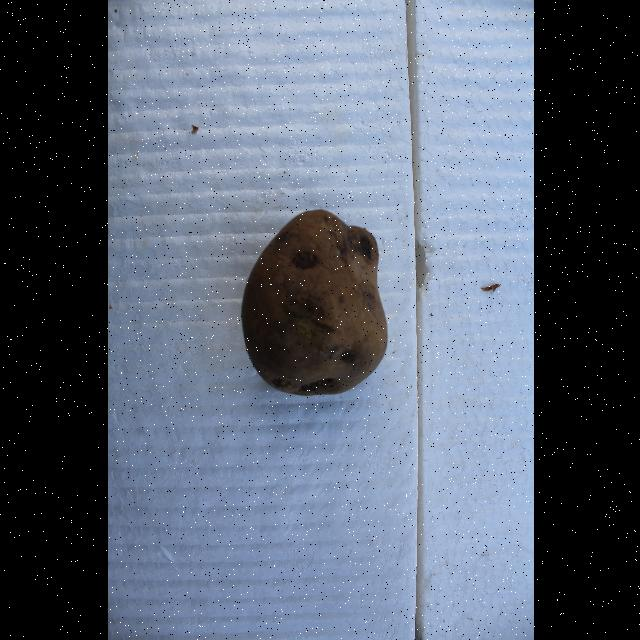Diseased-fungal potato: (237, 206, 389, 402)
